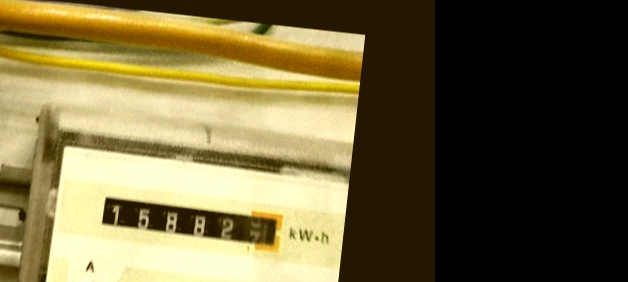1: (105, 202, 121, 225)
2: (215, 216, 233, 241)
5: (132, 205, 149, 231)
7: (244, 226, 258, 244)
8: (188, 213, 204, 238), (160, 210, 176, 234)
screen: (88, 186, 290, 262)
